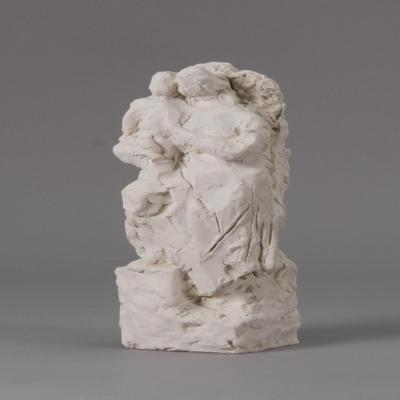sculpture: (111, 62, 302, 356)
